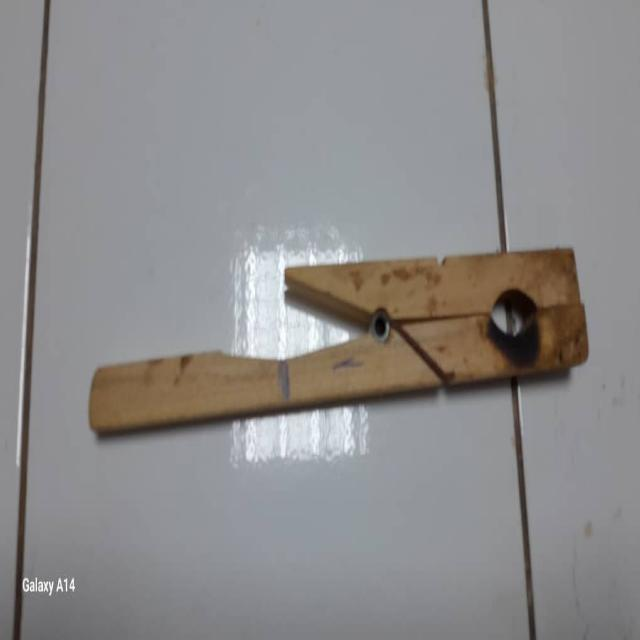Test Tube Holder: (75, 251, 590, 432)
